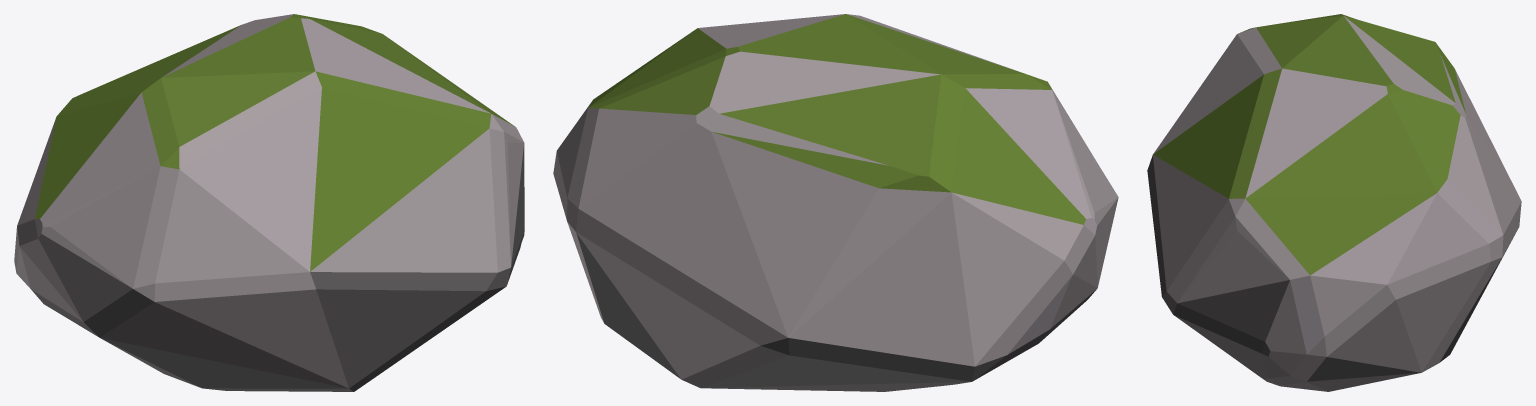
File: shore_stone_sub_a.glb
The picture shows the model from 3 angles, left to right: view 1: azimuth 30°, elevation 25°; view 2: azimuth 150°, elevation 25°; view 3: azimuth 270°, elevation 25°; orthographic projection. The views are drawn at different scales.
Visible parts, largest first — view 1: stone_dry, moss_wet, stone_wet; view 2: stone_dry, moss_wet, stone_wet; view 3: stone_dry, moss_wet, stone_wet.
Boxes of the visible parts, box(x1,y1,x2,y2) form: stone_dry: box(14, 14, 524, 388); moss_wet: box(35, 14, 514, 271); stone_wet: box(31, 143, 524, 391); stone_dry: box(553, 14, 1118, 379); moss_wet: box(588, 14, 1085, 224); stone_wet: box(576, 232, 1096, 391); stone_dry: box(1153, 16, 1521, 381); moss_wet: box(1153, 14, 1465, 275); stone_wet: box(1147, 155, 1501, 391).
Bounding box in the file's own units: 1.14 × 0.6742 × 0.846.
